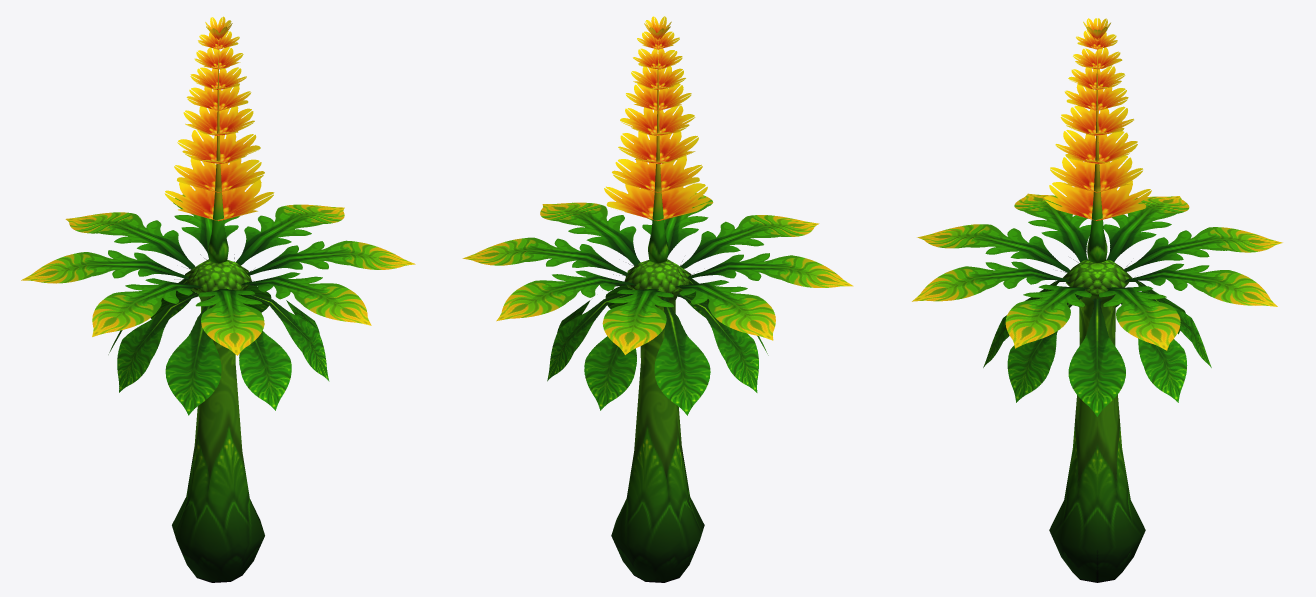
The model's file is Green_Tree_03b.FBX.
3 renders of one model, left to right at view 1: azimuth 30°, elevation 25°; view 2: azimuth 150°, elevation 25°; view 3: azimuth 270°, elevation 25°, orthographic.
Visible parts, largest first — view 1: Green_Tree_03b; view 2: Green_Tree_03b; view 3: Green_Tree_03b.
Part boxes in pixels (box(x1,y1,x2,y2)): Green_Tree_03b: box(21, 16, 415, 582); Green_Tree_03b: box(462, 16, 853, 582); Green_Tree_03b: box(912, 18, 1282, 582).
Size of the model in its own units: 201 by 300 by 201.
